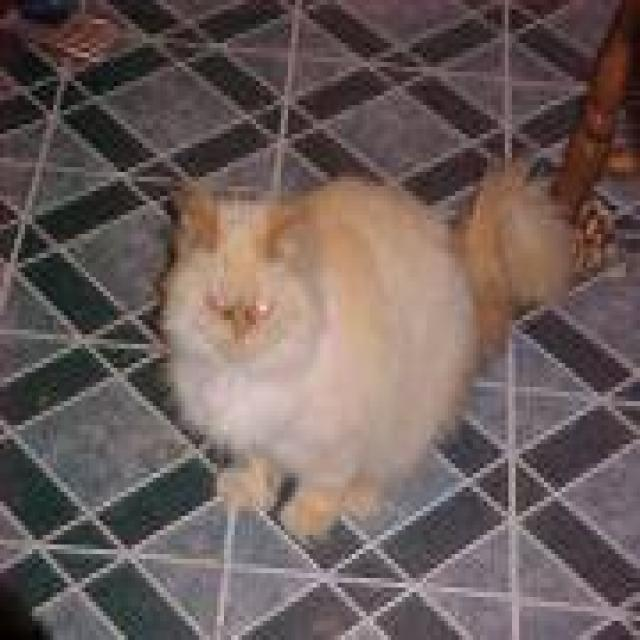cat: (156, 153, 580, 540)
